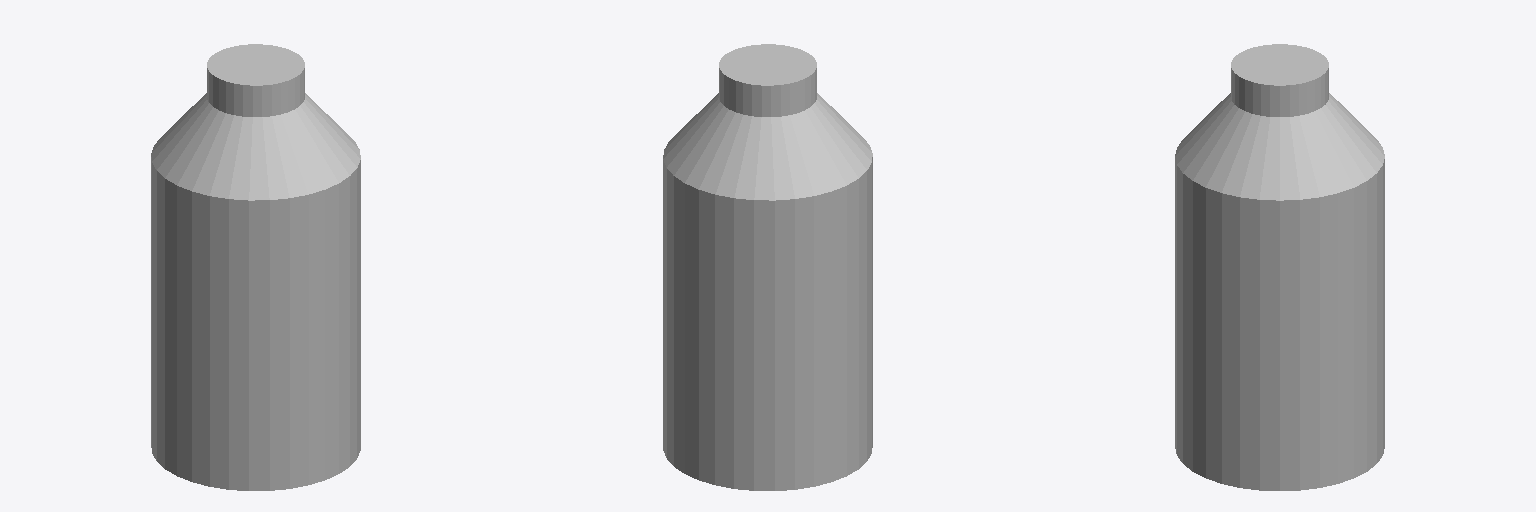
File: bottle.obj
The picture shows the model from 3 angles: view 1: azimuth 30°, elevation 25°; view 2: azimuth 150°, elevation 25°; view 3: azimuth 270°, elevation 25°; orthographic projection.
Visible parts, largest first — view 1: Bottle_Cylinder.001; view 2: Bottle_Cylinder.001; view 3: Bottle_Cylinder.001.
Part boxes in pixels (bbox=[...]): Bottle_Cylinder.001: bbox=[151, 44, 360, 490]; Bottle_Cylinder.001: bbox=[663, 44, 872, 490]; Bottle_Cylinder.001: bbox=[1175, 44, 1384, 490].
Size of the model in its own units: 1.64 by 3.28 by 1.64.